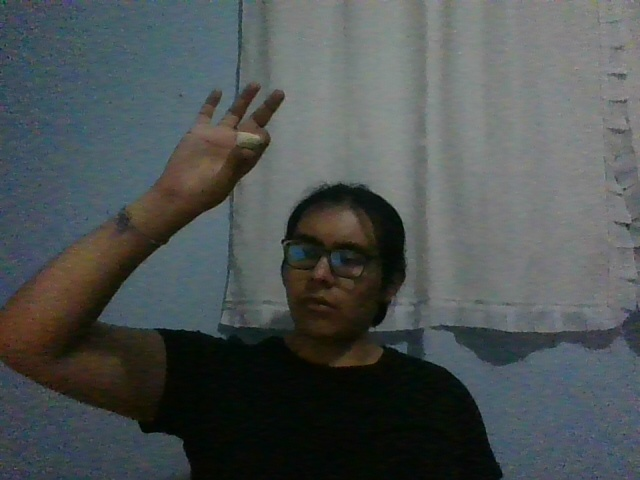goma: (237, 132, 260, 149)
